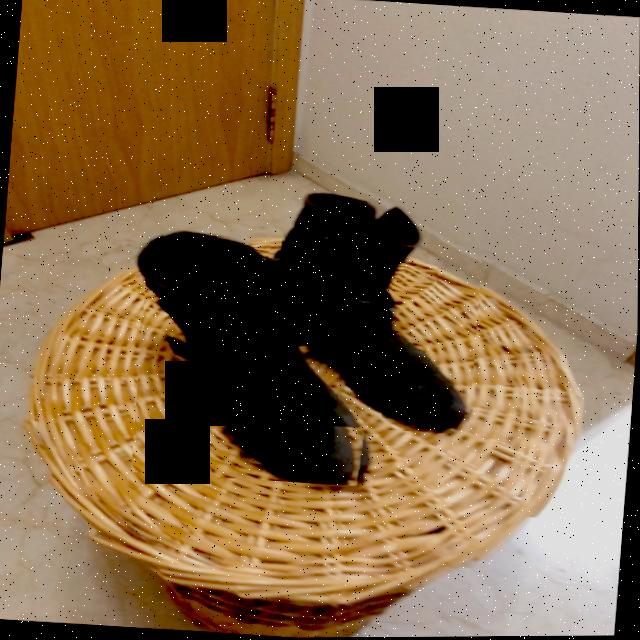shoe: (148, 235, 362, 485), (282, 199, 470, 434)
